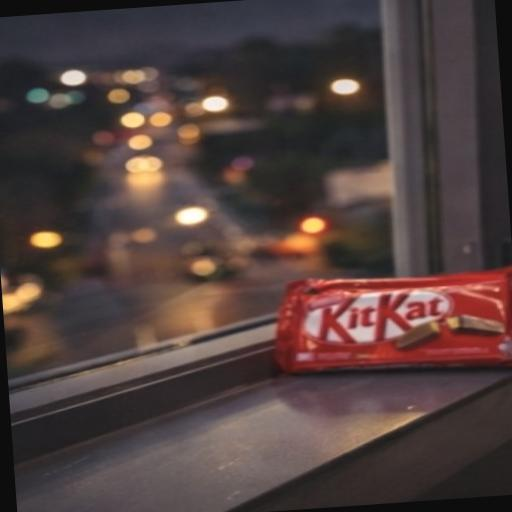kitkat: (214, 204, 512, 421)
